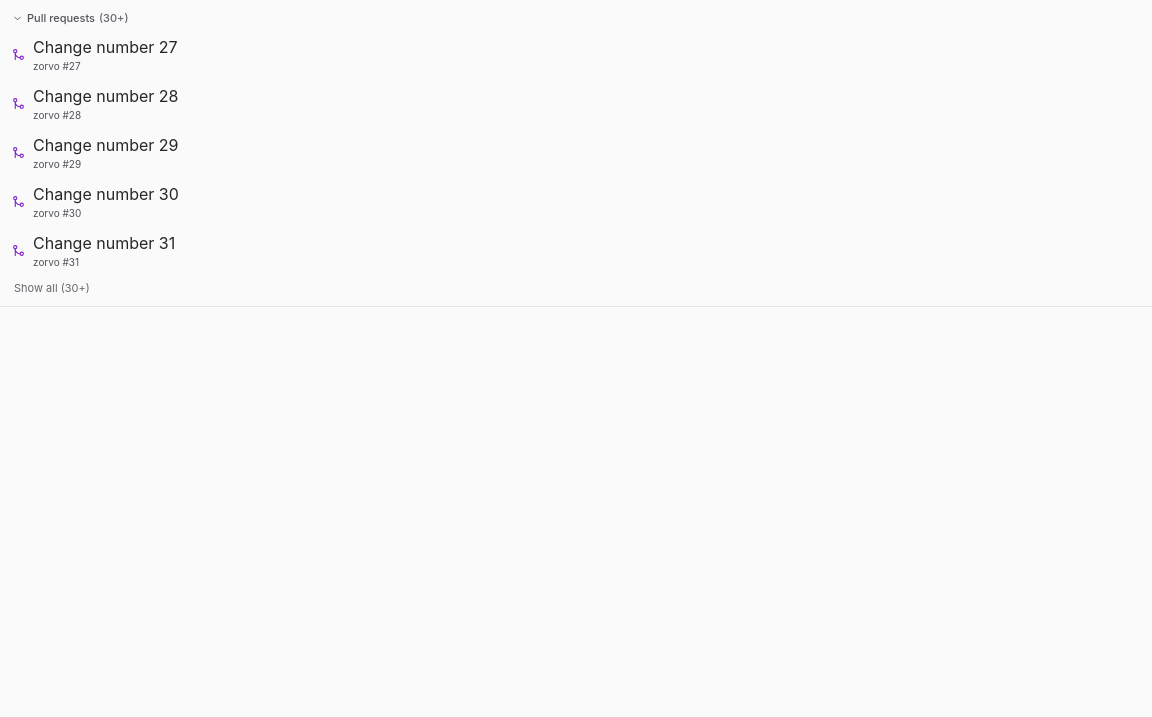
Test: PullRequestList › shows at most 30, and says there are more when the backend read one past that
The image size is (1152, 717).
Expected: the button "Pull requests (30+)" is shown, [6,6,1146,30]
What coordinates should you click on to do the following:
click the button "Show all (30+)"
I would click on:
 (52, 288)
Its box is [6,276,98,300].
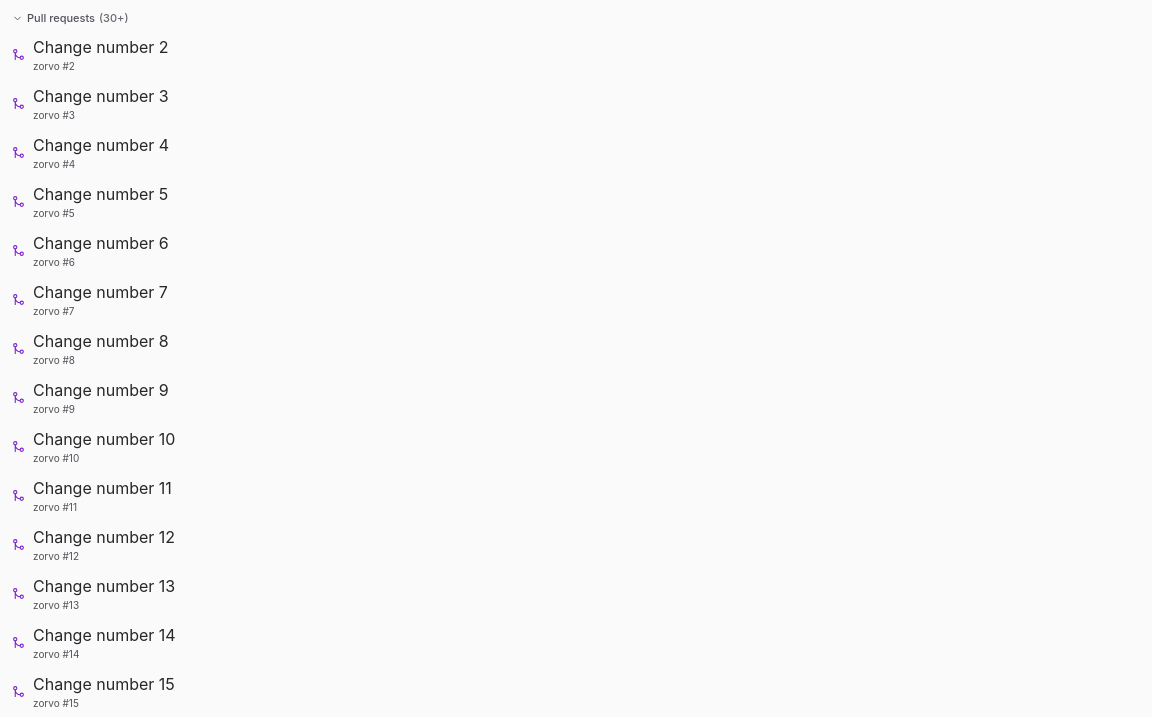
Now the number of list items is 30
